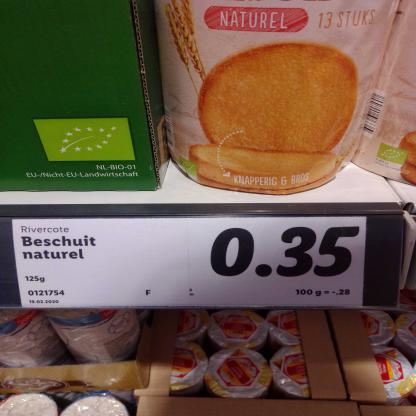prtg: (13, 218, 367, 308)
